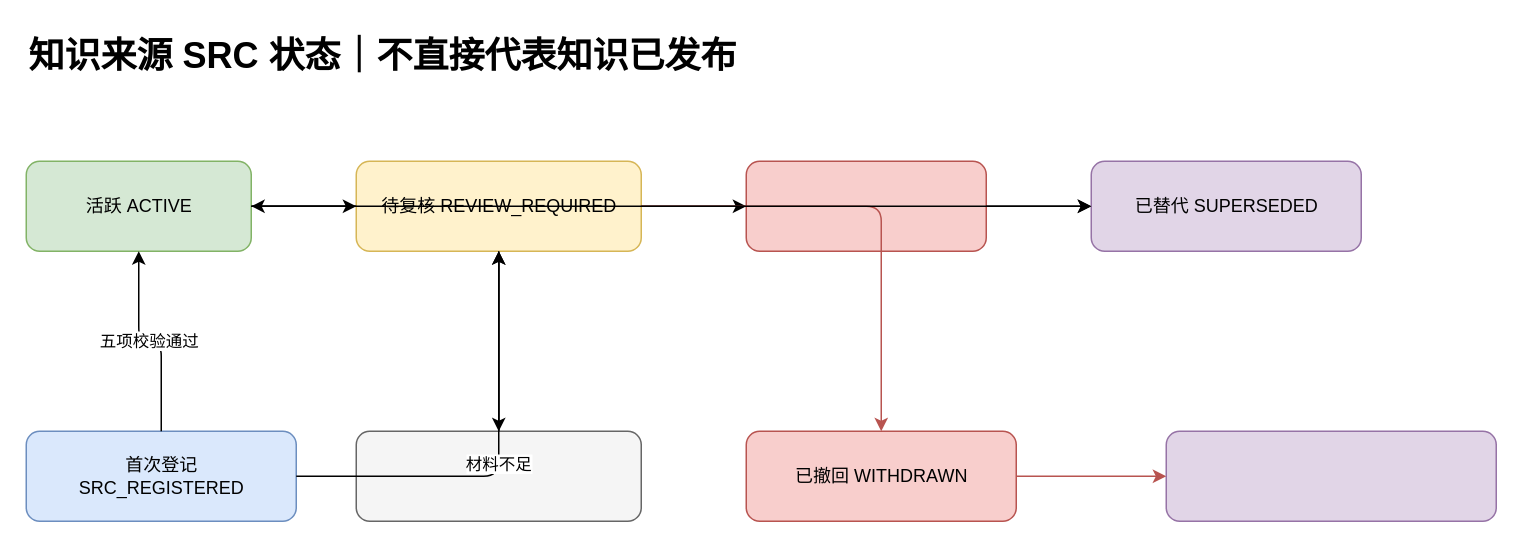
Image size: 1523x548. Some labels were removed from this diagram. Each missing label, with the box of its shape:
不可访问 UNAVAILABLE: (355, 430, 641, 521)
关联 KB 复核 REL 影响评估: (1165, 430, 1496, 521)
已过期 EXPIRED: (745, 160, 986, 251)
